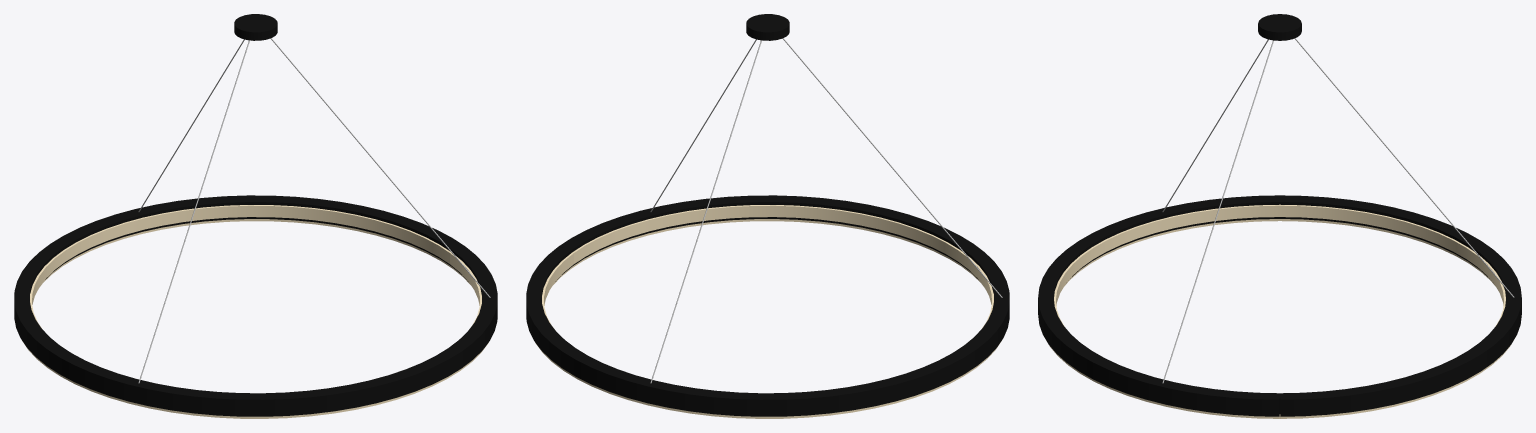
The model's file is furniture.light.ring_pendant_1500.glb.
3 views of the same model, side by side, from view 1: azimuth 30°, elevation 25°; view 2: azimuth 150°, elevation 25°; view 3: azimuth 270°, elevation 25° (orthographic).
Parts seen in each view (by area): view 1: ring__plastic_black, ring__glow, fixings__steel_stainless, fixings__plastic_black; view 2: ring__plastic_black, ring__glow, fixings__steel_stainless, fixings__plastic_black; view 3: ring__plastic_black, ring__glow, fixings__steel_stainless, fixings__plastic_black.
Part boxes in pixels (x1,y1,x2,y2): ring__plastic_black: (14,195,497,416); ring__glow: (22,205,488,418); fixings__steel_stainless: (138,38,490,383); fixings__plastic_black: (234,14,277,40); ring__plastic_black: (526,195,1009,416); ring__glow: (535,205,1001,418); fixings__steel_stainless: (650,38,1002,383); fixings__plastic_black: (746,14,789,40); ring__plastic_black: (1038,195,1521,416); ring__glow: (1049,204,1510,418); fixings__steel_stainless: (1162,38,1514,383); fixings__plastic_black: (1258,14,1301,40).
Size of the model in its own units: 1.55 by 1.04 by 1.55.
